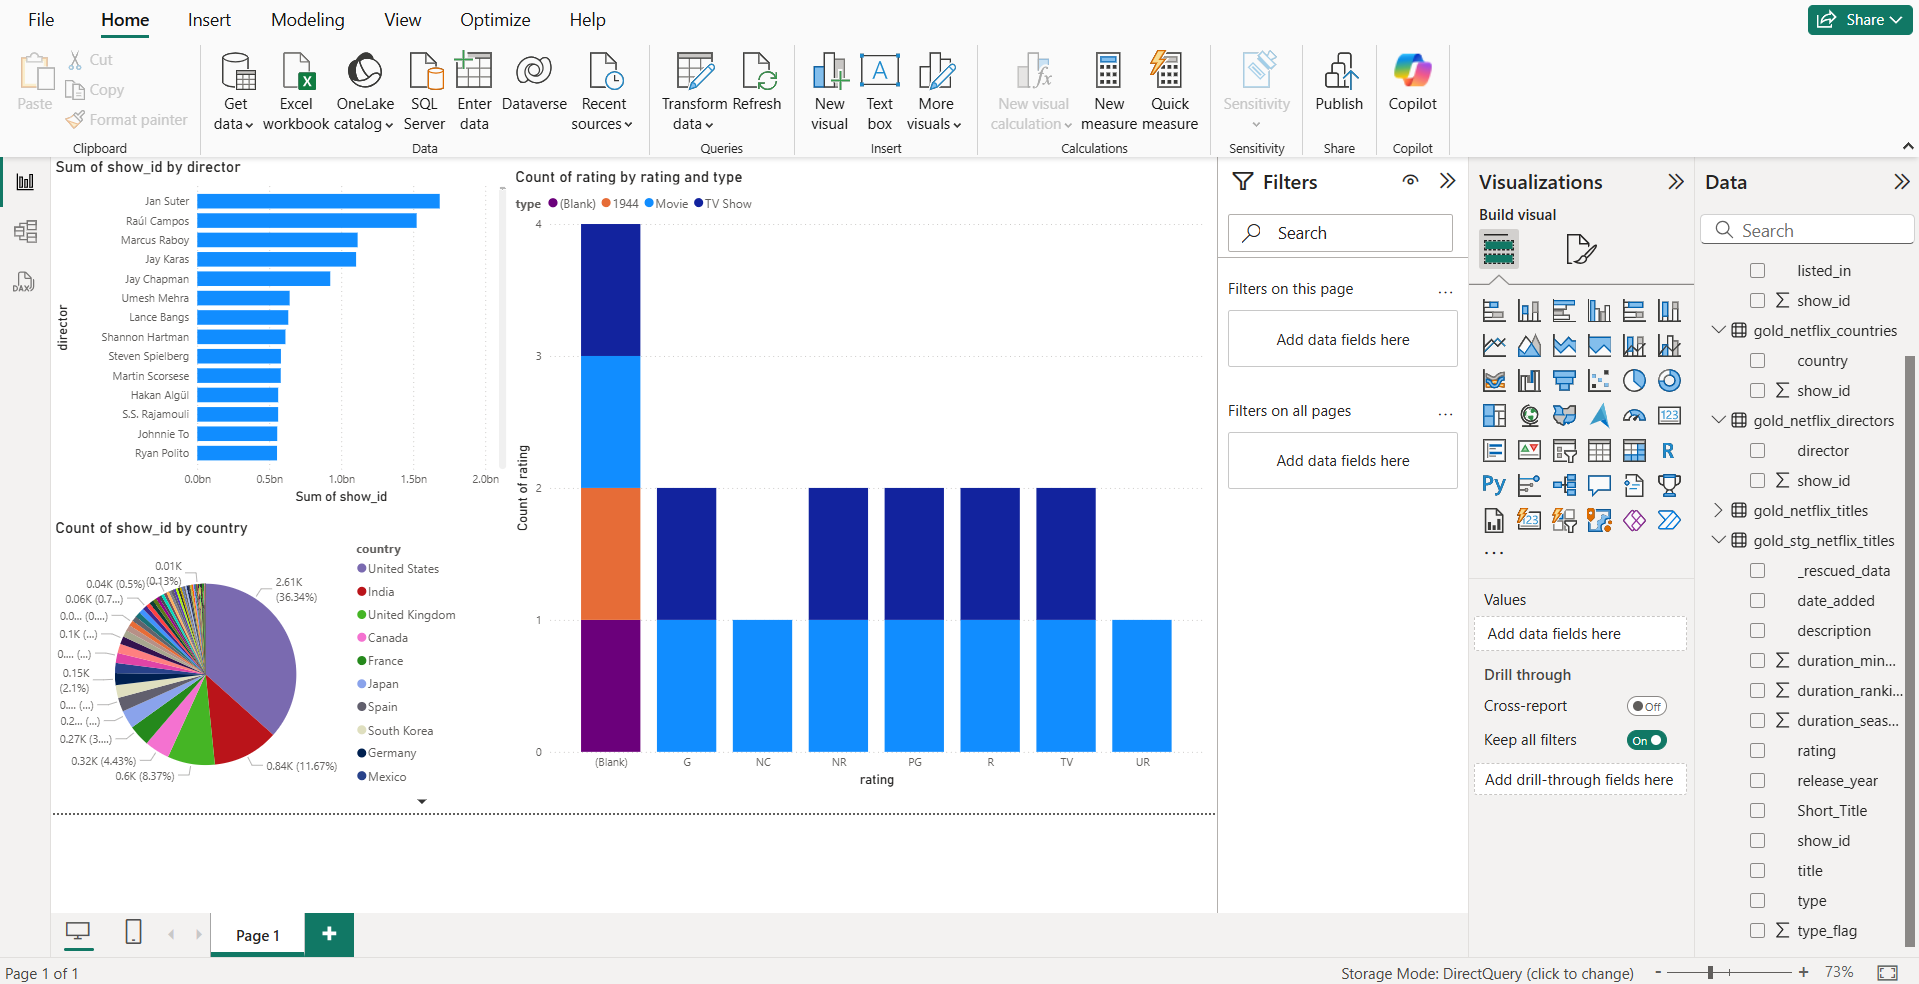

The dashboard page shown, as its layout file describes it:
{"tool":"powerbi","page":{"name":"Page 1","canvas":[1280,720],"ordinal":0},"visuals":[{"type":"pieChart","fields":{"Category":["gold_netflix_countries.country"],"Y":["Count(gold_netflix_countries.show_id)"]},"box":[0,396,482,324],"z":1},{"type":"clusteredBarChart","fields":{"Category":["gold_netflix_directors.director"],"Y":["Sum(gold_netflix_directors.show_id)"]},"box":[0,0,505,385.6],"z":2},{"type":"columnChart","fields":{"Category":["gold_stg_netflix_titles.rating"],"Y":["Count(gold_stg_netflix_titles.rating)"],"Series":["gold_stg_netflix_titles.type"]},"box":[505,11,765.7,686.1],"z":3}]}

Visuals, with their boxes on the page's 1280x720 design canvas (x1, y1, x2, y2). These are canvas units, not pixel positions in the 1919x984 screenshot, which may show the page scaled, cropped or inside an application window:
pieChart - gold_netflix_countries.country x Count(gold_netflix_countries.show_id): (0,396,482,720)
clusteredBarChart - gold_netflix_directors.director x Sum(gold_netflix_directors.show_id): (0,0,505,386)
columnChart - gold_stg_netflix_titles.rating x Count(gold_stg_netflix_titles.rating): (505,11,1271,697)
